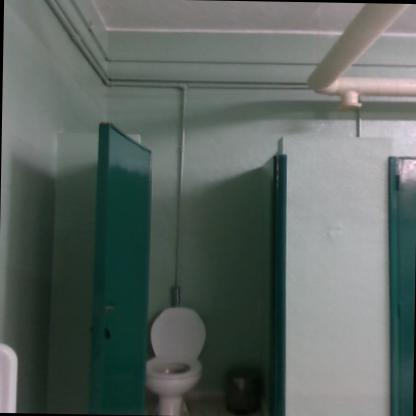open: (74, 107, 304, 415)
